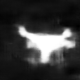plane: (15, 24, 77, 67)
